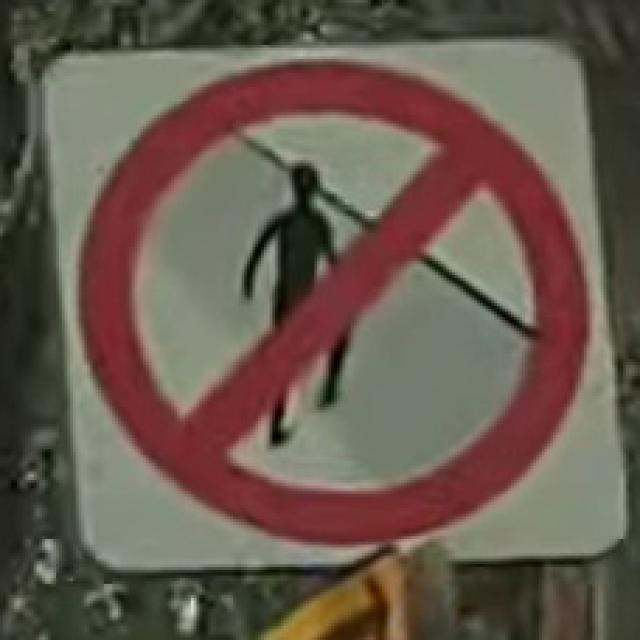nojaywalking_sign: (34, 34, 628, 572)
